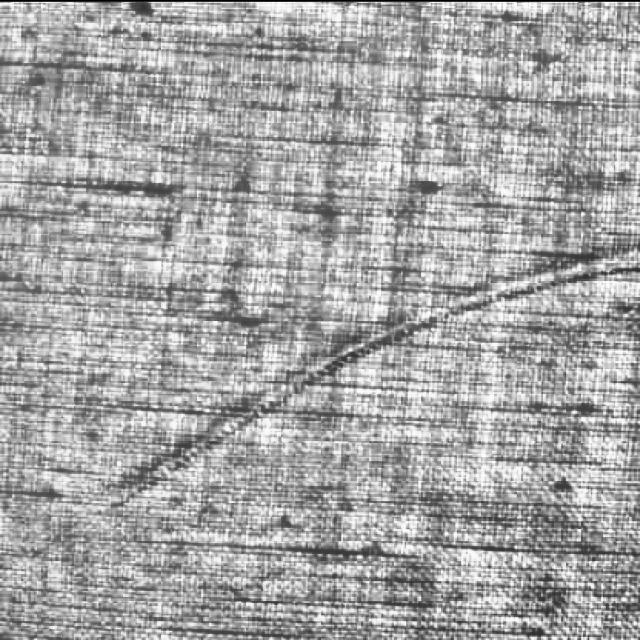thread_error: (68, 227, 640, 520)
